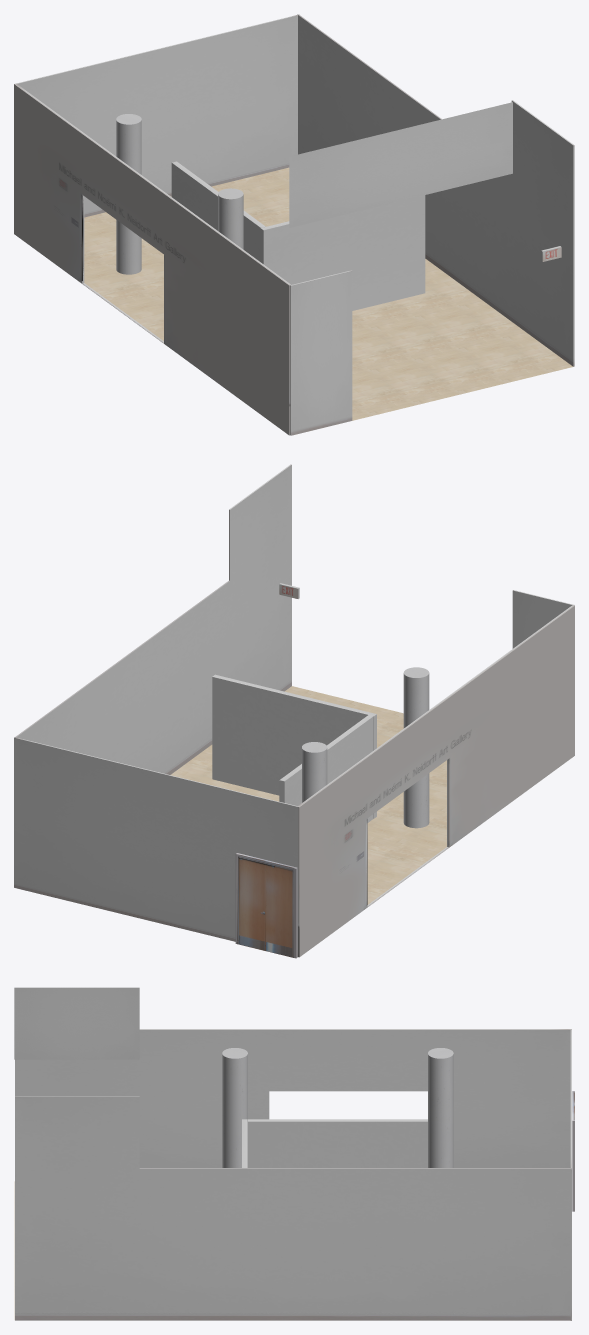
Rendered from gallerymodel2.glb.
The picture shows the model from 3 angles, top to bottom: view 1: azimuth 30°, elevation 25°; view 2: azimuth 150°, elevation 25°; view 3: azimuth 270°, elevation 25°; orthographic projection.
Visible parts, largest first — view 1: backwall, Cube.000, Cube.001; view 2: backwall, Cube.000, Cube.001; view 3: backwall, Cube.001.
Part boxes in pixels (x1,y1,x2,y2): backwall: (14,14,574,435); Cube.000: (260,195,425,310); Cube.001: (171,161,265,261); backwall: (14,464,574,958); Cube.000: (212,674,376,818); Cube.001: (279,715,373,822); backwall: (14,987,574,1320); Cube.001: (248,1119,427,1167).
Size of the model in its own units: 23.28 by 17.3 by 39.28.
9 materials, 9 textured.
